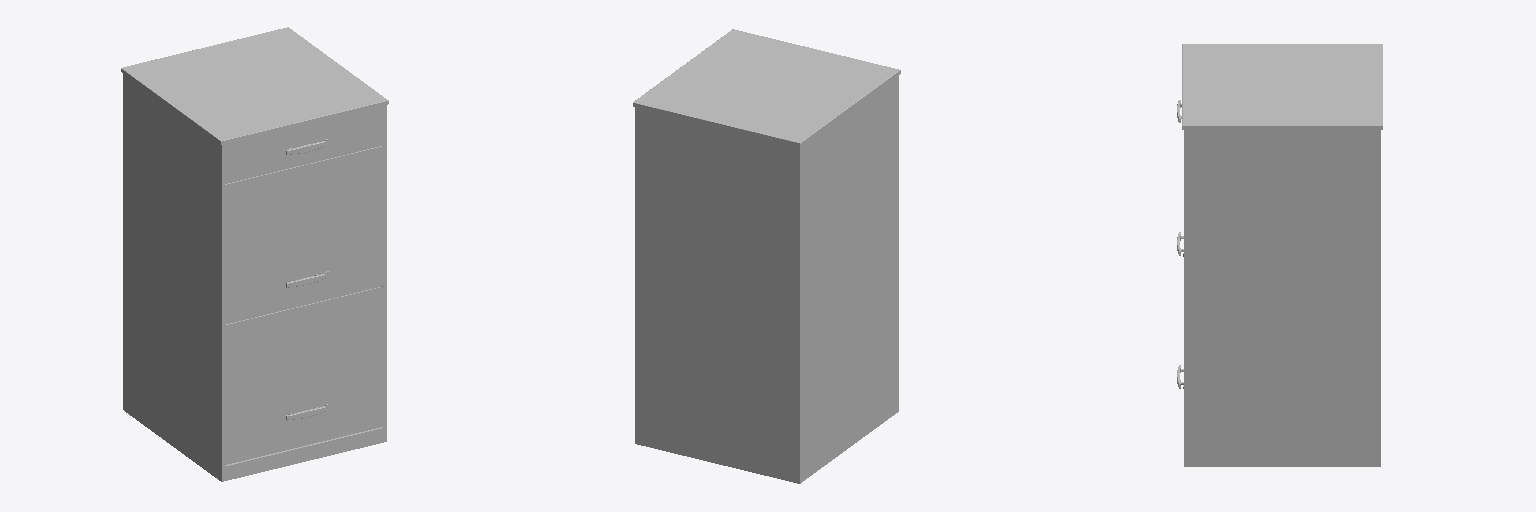
Rendered from cabinet.obj.
3 views of the same model, side by side, from view 1: azimuth 30°, elevation 25°; view 2: azimuth 150°, elevation 25°; view 3: azimuth 270°, elevation 25° (orthographic).
Parts seen in each view (by area): view 1: Cube.000; view 2: Cube.000; view 3: Cube.000.
Part boxes in pixels (x1,y1,x2,y2): Cube.000: (121,27,388,481); Cube.000: (633,29,900,483); Cube.000: (1177,44,1382,466).
Bounding box in the file's own units: 0.9996 × 1.95 × 1.06.